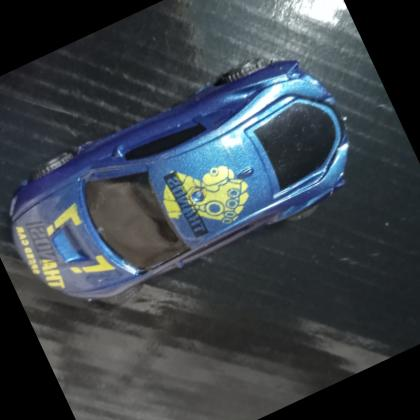Car: (0, 20, 386, 339)
